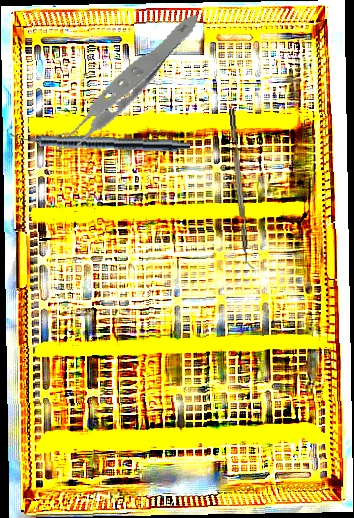Chopper: (228, 107, 257, 271)
Handpiece: (9, 129, 191, 154)
Tissue Forceps: (22, 13, 220, 156)
